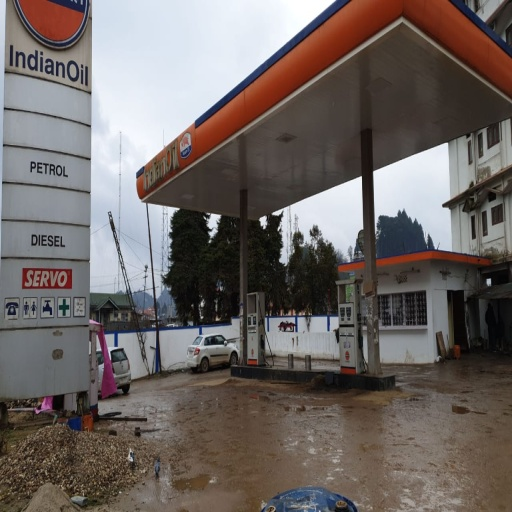roof: (134, 3, 511, 223)
